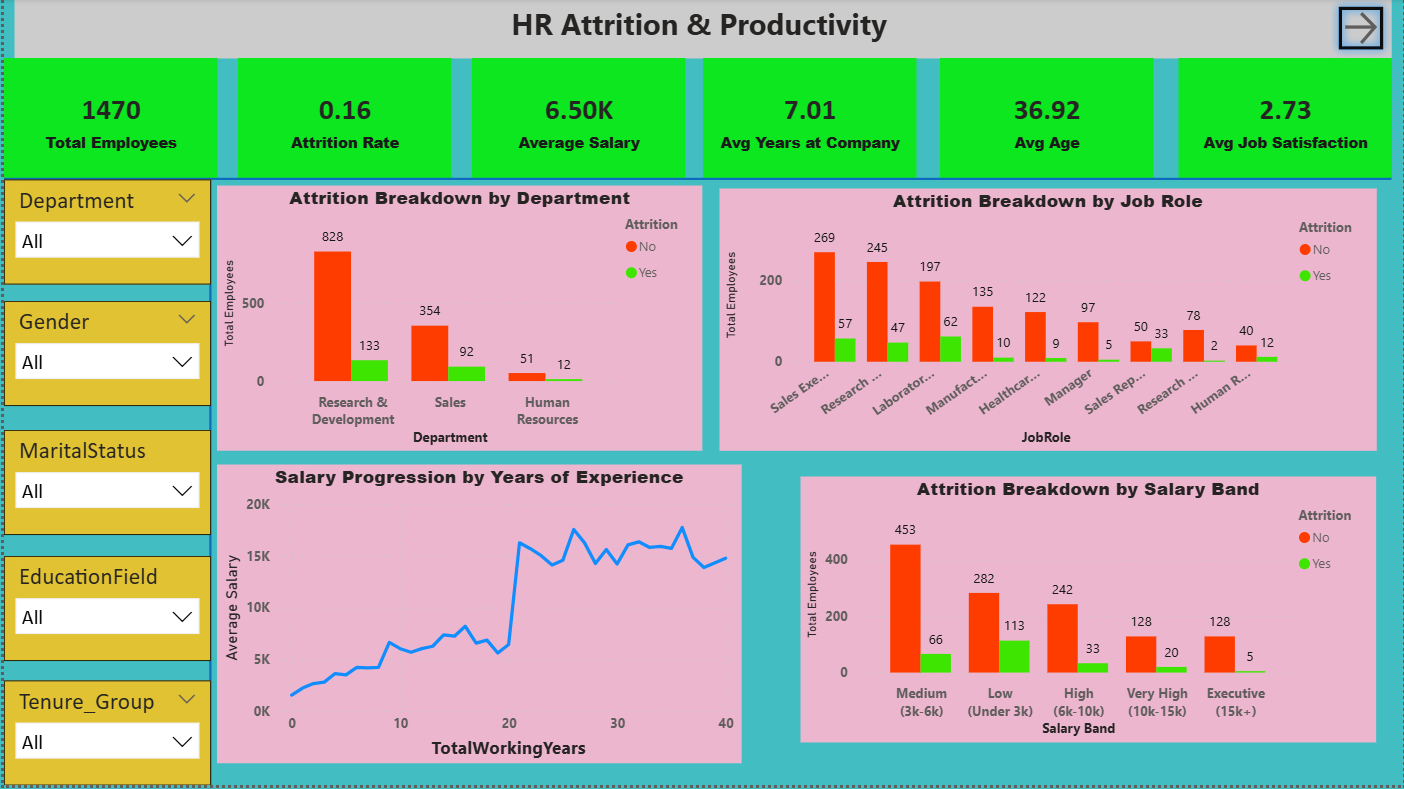

The page's visual inventory and layout, read from the dashboard file:
{"tool":"powerbi","page":{"name":"Attrition Overview","canvas":[1280,720],"ordinal":0},"visuals":[{"type":"textbox","box":[9.5,0,1260.1,55.1],"z":0},{"type":"card","fields":{"Values":["HR.Total Employees"]},"box":[0,55.1,195.3,110.3],"z":1000},{"type":"card","fields":{"Values":["HR.Avg Years at Company"]},"box":[639.5,55.1,195.3,110.3],"z":2000},{"type":"card","fields":{"Values":["HR.Average Salary"]},"box":[428.4,55.1,195.3,110.3],"z":3000},{"type":"card","fields":{"Values":["HR.Attrition Rate"]},"box":[214.2,55.1,195.3,110.3],"z":4000},{"type":"card","fields":{"Values":["HR.Avg Job Satisfaction"]},"box":[1074.2,55.1,195.3,110.3],"z":5000},{"type":"card","fields":{"Values":["HR.Avg Age"]},"box":[856.8,55.1,195.3,110.3],"z":6000},{"type":"shape","box":[182.7,165.4,12.6,554.4],"z":7000},{"type":"shape","box":[0,159.1,1269.5,12.6],"z":8000},{"type":"slicer","fields":{"Values":["HR.Tenure_Group"]},"box":[0,623.7,189,96.1],"z":9000},{"type":"slicer","fields":{"Values":["HR.EducationField"]},"box":[0,510.3,189,96.1],"z":10000},{"type":"slicer","fields":{"Values":["HR.Department"]},"box":[0,165.4,189,96.1],"z":11000},{"type":"slicer","fields":{"Values":["HR.Gender"]},"box":[0,277.2,189,96.1],"z":12000},{"type":"slicer","fields":{"Values":["HR.MaritalStatus"]},"box":[0,395.3,189,96.1],"z":13000},{"type":"clusteredColumnChart","title":"Attrition Breakdown by Department","fields":{"Category":["HR.Department"],"Y":["HR.Total Employees"],"Series":["HR.Attrition"]},"box":[195.3,171.7,444.2,242.6],"z":14000},{"type":"clusteredColumnChart","title":"Attrition Breakdown by Job Role","fields":{"Category":["HR.JobRole"],"Y":["HR.Total Employees"],"Series":["HR.Attrition"]},"box":[654.6,174.3,601.1,240.2],"z":15000},{"type":"clusteredColumnChart","title":"Attrition Breakdown by Salary Band","fields":{"Category":["HR.Salary Band"],"Series":["HR.Attrition"],"Y":["HR.Total Employees"]},"box":[729.1,437.5,526.6,243],"z":16000},{"type":"lineChart","title":"Salary Progression by Years of Experience","fields":{"Category":["HR.TotalWorkingYears"],"Y":["HR.Average Salary"]},"box":[194.4,427.3,480,273.4],"z":17000},{"type":"actionButton","box":[1212.8,0,56.7,55.1],"z":18000}]}

Visuals, with their boxes in screenshot pixels (x1, y1, x2, y2), scaled from the page's 1280x720 canvas onto the 1404x789 screenshot:
textbox: x1=10, y1=0, x2=1393, y2=60
card - HR.Total Employees: x1=0, y1=60, x2=214, y2=181
card - HR.Avg Years at Company: x1=701, y1=60, x2=916, y2=181
card - HR.Average Salary: x1=470, y1=60, x2=684, y2=181
card - HR.Attrition Rate: x1=235, y1=60, x2=449, y2=181
card - HR.Avg Job Satisfaction: x1=1178, y1=60, x2=1392, y2=181
card - HR.Avg Age: x1=940, y1=60, x2=1154, y2=181
shape: x1=200, y1=181, x2=214, y2=788
shape: x1=0, y1=174, x2=1392, y2=188
slicer - HR.Tenure_Group: x1=0, y1=683, x2=207, y2=788
slicer - HR.EducationField: x1=0, y1=559, x2=207, y2=665
slicer - HR.Department: x1=0, y1=181, x2=207, y2=287
slicer - HR.Gender: x1=0, y1=304, x2=207, y2=409
slicer - HR.MaritalStatus: x1=0, y1=433, x2=207, y2=538
"Attrition Breakdown by Department" clusteredColumnChart: x1=214, y1=188, x2=701, y2=454
"Attrition Breakdown by Job Role" clusteredColumnChart: x1=718, y1=191, x2=1377, y2=454
"Attrition Breakdown by Salary Band" clusteredColumnChart: x1=800, y1=479, x2=1377, y2=746
"Salary Progression by Years of Experience" lineChart: x1=213, y1=468, x2=740, y2=768
actionButton: x1=1330, y1=0, x2=1392, y2=60
